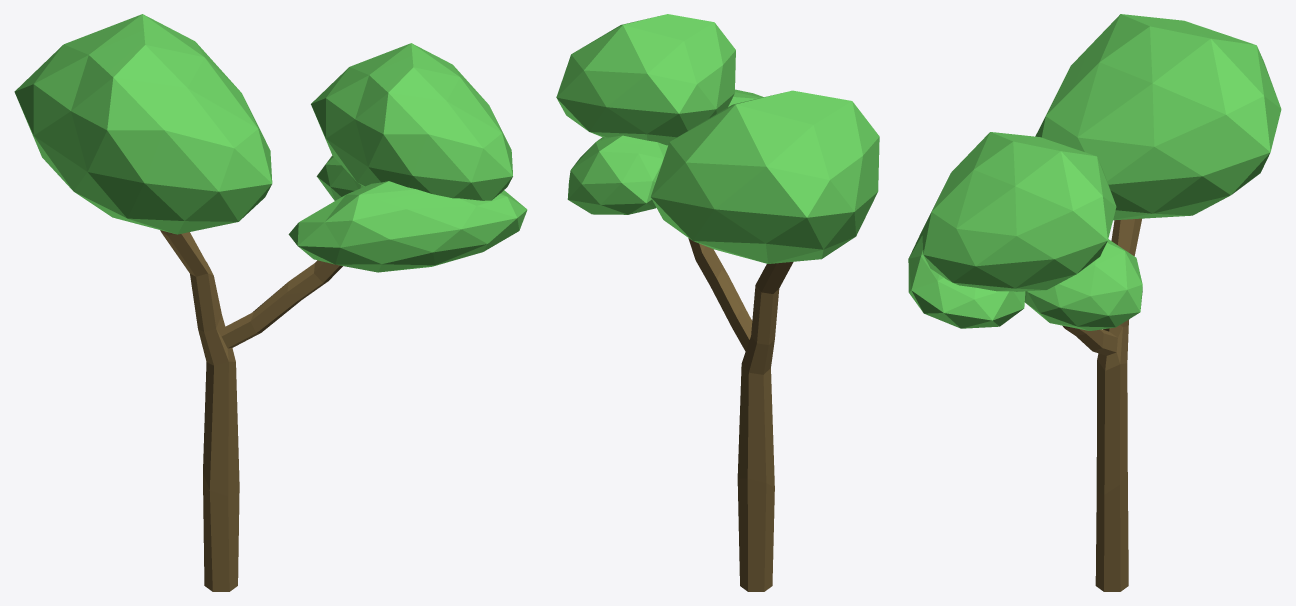
The model's file is Tree1.fbx.
3 views of the same model, side by side, from view 1: azimuth 30°, elevation 25°; view 2: azimuth 150°, elevation 25°; view 3: azimuth 270°, elevation 25° (orthographic). The views are drawn at different scales.
Parts seen in each view (by area): view 1: Cylinder; view 2: Cylinder; view 3: Cylinder.
Part boxes in pixels (x1,y1,x2,y2): Cylinder: [14, 14, 527, 591]; Cylinder: [556, 14, 879, 591]; Cylinder: [908, 14, 1281, 591].
Bounding box in the file's own units: 700 × 973 × 617.
